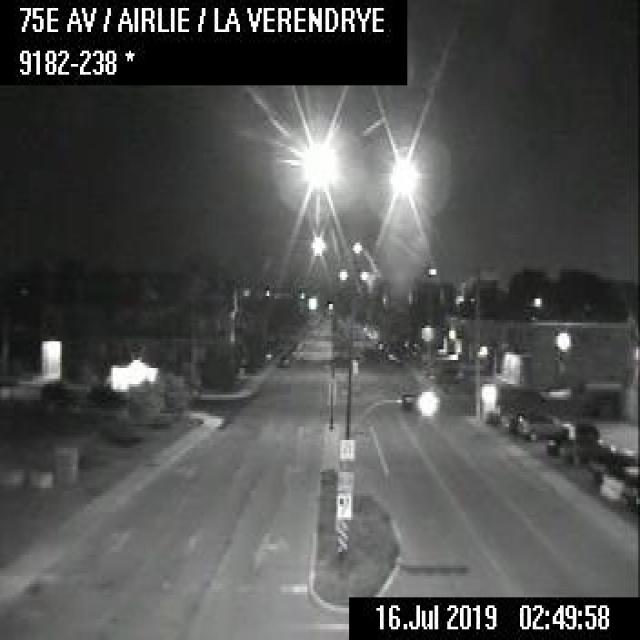vehicle: (544, 422, 597, 454), (598, 462, 638, 500), (515, 410, 564, 440), (274, 352, 290, 366)
